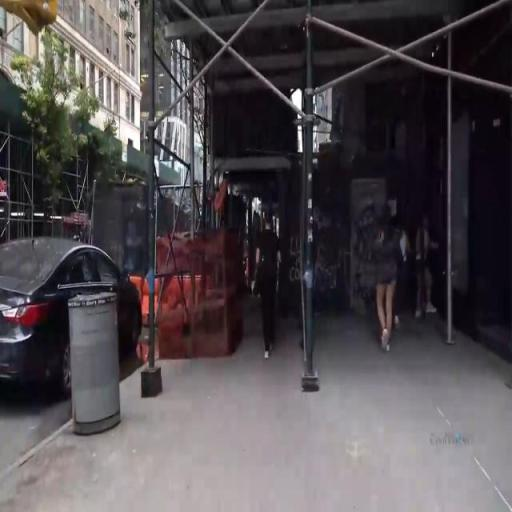person: (259, 207, 284, 352), (418, 219, 444, 354), (379, 213, 396, 351)
